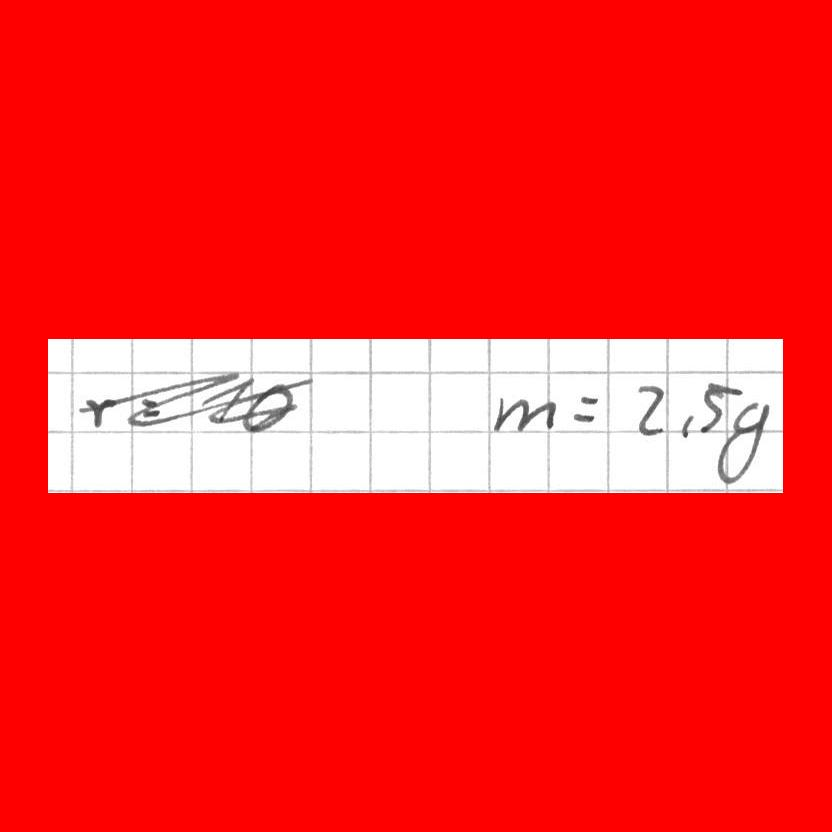Char: (714, 397, 771, 486), (491, 392, 562, 437), (632, 381, 674, 440), (697, 376, 737, 437), (572, 390, 601, 427), (680, 411, 695, 440)
